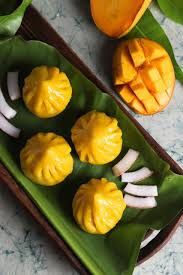modak: (65, 110, 141, 165), (17, 61, 78, 121), (74, 176, 129, 233), (20, 133, 77, 187)
